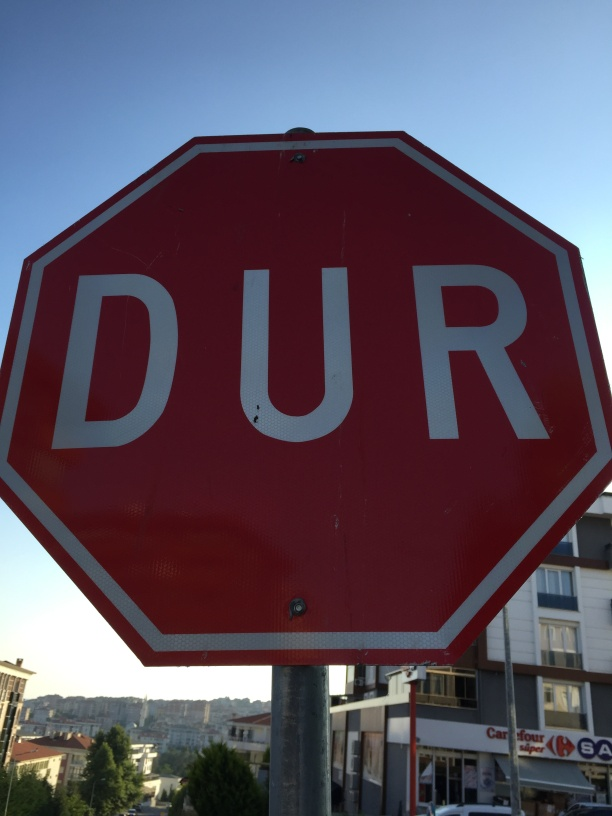arac_dur_isareti: (6, 74, 590, 609)
